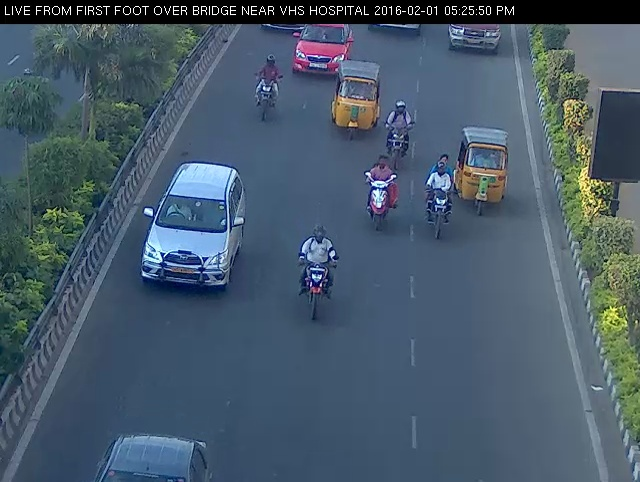Bus: (371, 11, 426, 41)
Car: (126, 155, 256, 302), (67, 414, 224, 482), (446, 117, 518, 225), (327, 53, 385, 144), (286, 11, 359, 83), (439, 15, 507, 58), (250, 13, 314, 39)
Person: (287, 208, 346, 329), (408, 147, 464, 247), (375, 92, 424, 176), (244, 47, 285, 124), (363, 151, 399, 236)
